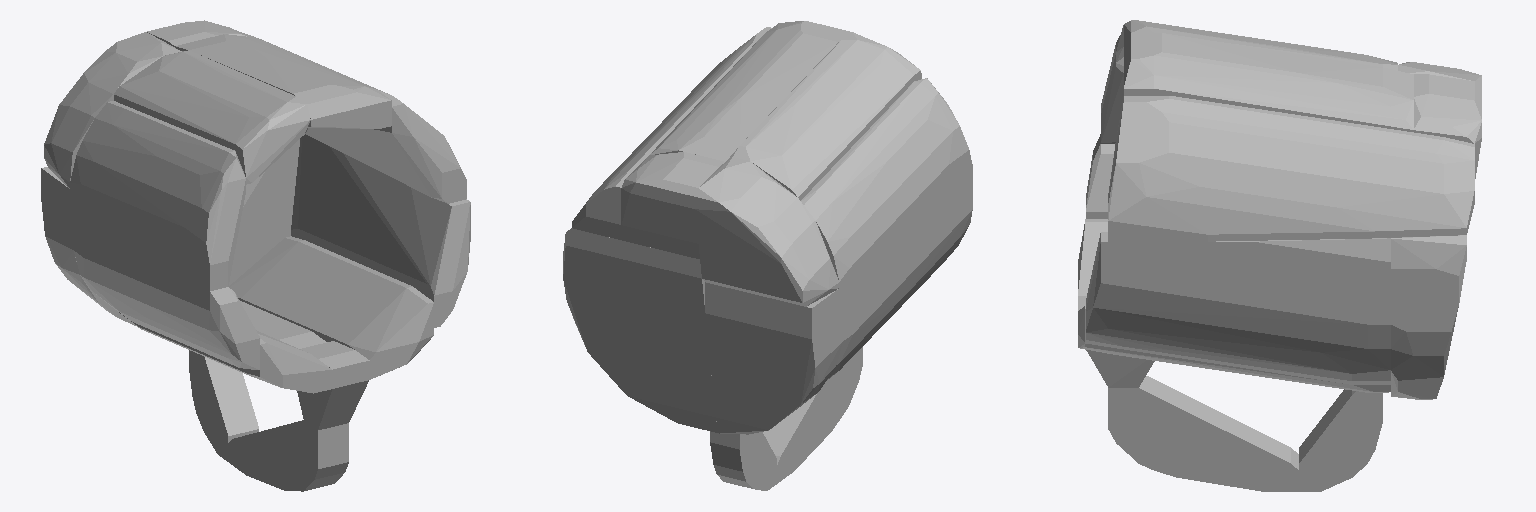
The robot description file, URDF, robot "root":
<robot name="root">
  <link name="link_9d8c711750a73b06ad1d789f3b2120d0_convex_piece_0">
    <inertial>
      <origin rpy="0 0 0" xyz="0 0 0"/>
      <mass value="2.77E-07"/>
      <inertia ixx="1.61E-10" ixy="9.73E-13" ixz="2.11E-12" iyy="1.31E-10" iyz="5.05E-11" izz="3.07E-11"/>
    </inertial>
    <visual>
      <origin rpy="0 0 0" xyz="0 0 0"/>
      <geometry>
        <mesh filename="9d8c711750a73b06ad1d789f3b2120d0_convex_piece_0.obj" scale="1.0000E+00"/>
      </geometry>
      <material name="">
        <color rgba="7.50E-01 7.50E-01 7.50E-01 1"/>
      </material>
    </visual>
    <collision>
      <origin rpy="0 0 0" xyz="0 0 0"/>
      <geometry>
        <mesh filename="9d8c711750a73b06ad1d789f3b2120d0_convex_piece_0.obj" scale="1.0000E+00"/>
      </geometry>
    </collision>
  </link>
  <link name="link_9d8c711750a73b06ad1d789f3b2120d0_convex_piece_1">
    <inertial>
      <origin rpy="0 0 0" xyz="0 0 0"/>
      <mass value="1.36E-07"/>
      <inertia ixx="6.74E-11" ixy="-3.22E-13" ixz="1.02E-12" iyy="6.23E-11" iyz="-2.45E-11" izz="5.60E-12"/>
    </inertial>
    <visual>
      <origin rpy="0 0 0" xyz="0 0 0"/>
      <geometry>
        <mesh filename="9d8c711750a73b06ad1d789f3b2120d0_convex_piece_1.obj" scale="1.0000E+00"/>
      </geometry>
      <material name="">
        <color rgba="7.50E-01 7.50E-01 7.50E-01 1"/>
      </material>
    </visual>
    <collision>
      <origin rpy="0 0 0" xyz="0 0 0"/>
      <geometry>
        <mesh filename="9d8c711750a73b06ad1d789f3b2120d0_convex_piece_1.obj" scale="1.0000E+00"/>
      </geometry>
    </collision>
  </link>
  <joint name="link_9d8c711750a73b06ad1d789f3b2120d0_convex_piece_1_joint" type="fixed">
    <origin rpy="0 0 0" xyz="0 0 0"/>
    <parent link="link_9d8c711750a73b06ad1d789f3b2120d0_convex_piece_0"/>
    <child link="link_9d8c711750a73b06ad1d789f3b2120d0_convex_piece_1"/>
  </joint>
  <link name="link_9d8c711750a73b06ad1d789f3b2120d0_convex_piece_2">
    <inertial>
      <origin rpy="0 0 0" xyz="0 0 0"/>
      <mass value="7.77E-07"/>
      <inertia ixx="2.01E-10" ixy="-1.26E-10" ixz="4.88E-12" iyy="9.77E-11" iyz="-3.28E-11" izz="2.85E-10"/>
    </inertial>
    <visual>
      <origin rpy="0 0 0" xyz="0 0 0"/>
      <geometry>
        <mesh filename="9d8c711750a73b06ad1d789f3b2120d0_convex_piece_2.obj" scale="1.0000E+00"/>
      </geometry>
      <material name="">
        <color rgba="7.50E-01 7.50E-01 7.50E-01 1"/>
      </material>
    </visual>
    <collision>
      <origin rpy="0 0 0" xyz="0 0 0"/>
      <geometry>
        <mesh filename="9d8c711750a73b06ad1d789f3b2120d0_convex_piece_2.obj" scale="1.0000E+00"/>
      </geometry>
    </collision>
  </link>
  <joint name="link_9d8c711750a73b06ad1d789f3b2120d0_convex_piece_2_joint" type="fixed">
    <origin rpy="0 0 0" xyz="0 0 0"/>
    <parent link="link_9d8c711750a73b06ad1d789f3b2120d0_convex_piece_1"/>
    <child link="link_9d8c711750a73b06ad1d789f3b2120d0_convex_piece_2"/>
  </joint>
  <link name="link_9d8c711750a73b06ad1d789f3b2120d0_convex_piece_3">
    <inertial>
      <origin rpy="0 0 0" xyz="0 0 0"/>
      <mass value="5.67E-07"/>
      <inertia ixx="2.81E-10" ixy="-8.99E-11" ixz="-6.83E-11" iyy="1.62E-10" iyz="1.31E-10" izz="2.27E-10"/>
    </inertial>
    <visual>
      <origin rpy="0 0 0" xyz="0 0 0"/>
      <geometry>
        <mesh filename="9d8c711750a73b06ad1d789f3b2120d0_convex_piece_3.obj" scale="1.0000E+00"/>
      </geometry>
      <material name="">
        <color rgba="7.50E-01 7.50E-01 7.50E-01 1"/>
      </material>
    </visual>
    <collision>
      <origin rpy="0 0 0" xyz="0 0 0"/>
      <geometry>
        <mesh filename="9d8c711750a73b06ad1d789f3b2120d0_convex_piece_3.obj" scale="1.0000E+00"/>
      </geometry>
    </collision>
  </link>
  <joint name="link_9d8c711750a73b06ad1d789f3b2120d0_convex_piece_3_joint" type="fixed">
    <origin rpy="0 0 0" xyz="0 0 0"/>
    <parent link="link_9d8c711750a73b06ad1d789f3b2120d0_convex_piece_2"/>
    <child link="link_9d8c711750a73b06ad1d789f3b2120d0_convex_piece_3"/>
  </joint>
  <link name="link_9d8c711750a73b06ad1d789f3b2120d0_convex_piece_4">
    <inertial>
      <origin rpy="0 0 0" xyz="0 0 0"/>
      <mass value="1.32E-06"/>
      <inertia ixx="3.66E-10" ixy="1.65E-10" ixz="1.46E-11" iyy="1.47E-10" iyz="-1.86E-11" izz="4.56E-10"/>
    </inertial>
    <visual>
      <origin rpy="0 0 0" xyz="0 0 0"/>
      <geometry>
        <mesh filename="9d8c711750a73b06ad1d789f3b2120d0_convex_piece_4.obj" scale="1.0000E+00"/>
      </geometry>
      <material name="">
        <color rgba="7.50E-01 7.50E-01 7.50E-01 1"/>
      </material>
    </visual>
    <collision>
      <origin rpy="0 0 0" xyz="0 0 0"/>
      <geometry>
        <mesh filename="9d8c711750a73b06ad1d789f3b2120d0_convex_piece_4.obj" scale="1.0000E+00"/>
      </geometry>
    </collision>
  </link>
  <joint name="link_9d8c711750a73b06ad1d789f3b2120d0_convex_piece_4_joint" type="fixed">
    <origin rpy="0 0 0" xyz="0 0 0"/>
    <parent link="link_9d8c711750a73b06ad1d789f3b2120d0_convex_piece_3"/>
    <child link="link_9d8c711750a73b06ad1d789f3b2120d0_convex_piece_4"/>
  </joint>
  <link name="link_9d8c711750a73b06ad1d789f3b2120d0_convex_piece_5">
    <inertial>
      <origin rpy="0 0 0" xyz="0 0 0"/>
      <mass value="1.08E-06"/>
      <inertia ixx="3.88E-10" ixy="-4.65E-12" ixz="2.22E-10" iyy="4.55E-10" iyz="-3.48E-11" izz="2.98E-10"/>
    </inertial>
    <visual>
      <origin rpy="0 0 0" xyz="0 0 0"/>
      <geometry>
        <mesh filename="9d8c711750a73b06ad1d789f3b2120d0_convex_piece_5.obj" scale="1.0000E+00"/>
      </geometry>
      <material name="">
        <color rgba="7.50E-01 7.50E-01 7.50E-01 1"/>
      </material>
    </visual>
    <collision>
      <origin rpy="0 0 0" xyz="0 0 0"/>
      <geometry>
        <mesh filename="9d8c711750a73b06ad1d789f3b2120d0_convex_piece_5.obj" scale="1.0000E+00"/>
      </geometry>
    </collision>
  </link>
  <joint name="link_9d8c711750a73b06ad1d789f3b2120d0_convex_piece_5_joint" type="fixed">
    <origin rpy="0 0 0" xyz="0 0 0"/>
    <parent link="link_9d8c711750a73b06ad1d789f3b2120d0_convex_piece_4"/>
    <child link="link_9d8c711750a73b06ad1d789f3b2120d0_convex_piece_5"/>
  </joint>
  <link name="link_9d8c711750a73b06ad1d789f3b2120d0_convex_piece_6">
    <inertial>
      <origin rpy="0 0 0" xyz="0 0 0"/>
      <mass value="7.98E-07"/>
      <inertia ixx="5.79E-11" ixy="3.80E-11" ixz="-1.32E-11" iyy="1.77E-10" iyz="-2.74E-11" izz="2.50E-10"/>
    </inertial>
    <visual>
      <origin rpy="0 0 0" xyz="0 0 0"/>
      <geometry>
        <mesh filename="9d8c711750a73b06ad1d789f3b2120d0_convex_piece_6.obj" scale="1.0000E+00"/>
      </geometry>
      <material name="">
        <color rgba="7.50E-01 7.50E-01 7.50E-01 1"/>
      </material>
    </visual>
    <collision>
      <origin rpy="0 0 0" xyz="0 0 0"/>
      <geometry>
        <mesh filename="9d8c711750a73b06ad1d789f3b2120d0_convex_piece_6.obj" scale="1.0000E+00"/>
      </geometry>
    </collision>
  </link>
  <joint name="link_9d8c711750a73b06ad1d789f3b2120d0_convex_piece_6_joint" type="fixed">
    <origin rpy="0 0 0" xyz="0 0 0"/>
    <parent link="link_9d8c711750a73b06ad1d789f3b2120d0_convex_piece_5"/>
    <child link="link_9d8c711750a73b06ad1d789f3b2120d0_convex_piece_6"/>
  </joint>
  <link name="link_9d8c711750a73b06ad1d789f3b2120d0_convex_piece_7">
    <inertial>
      <origin rpy="0 0 0" xyz="0 0 0"/>
      <mass value="7.61E-07"/>
      <inertia ixx="1.05E-10" ixy="2.81E-11" ixz="3.88E-11" iyy="7.44E-11" iyz="-3.76E-12" izz="1.27E-10"/>
    </inertial>
    <visual>
      <origin rpy="0 0 0" xyz="0 0 0"/>
      <geometry>
        <mesh filename="9d8c711750a73b06ad1d789f3b2120d0_convex_piece_7.obj" scale="1.0000E+00"/>
      </geometry>
      <material name="">
        <color rgba="7.50E-01 7.50E-01 7.50E-01 1"/>
      </material>
    </visual>
    <collision>
      <origin rpy="0 0 0" xyz="0 0 0"/>
      <geometry>
        <mesh filename="9d8c711750a73b06ad1d789f3b2120d0_convex_piece_7.obj" scale="1.0000E+00"/>
      </geometry>
    </collision>
  </link>
  <joint name="link_9d8c711750a73b06ad1d789f3b2120d0_convex_piece_7_joint" type="fixed">
    <origin rpy="0 0 0" xyz="0 0 0"/>
    <parent link="link_9d8c711750a73b06ad1d789f3b2120d0_convex_piece_6"/>
    <child link="link_9d8c711750a73b06ad1d789f3b2120d0_convex_piece_7"/>
  </joint>
  <link name="link_9d8c711750a73b06ad1d789f3b2120d0_convex_piece_8">
    <inertial>
      <origin rpy="0 0 0" xyz="0 0 0"/>
      <mass value="7.09E-07"/>
      <inertia ixx="1.88E-10" ixy="4.47E-11" ixz="-1.47E-10" iyy="2.93E-10" iyz="-6.20E-11" izz="2.21E-10"/>
    </inertial>
    <visual>
      <origin rpy="0 0 0" xyz="0 0 0"/>
      <geometry>
        <mesh filename="9d8c711750a73b06ad1d789f3b2120d0_convex_piece_8.obj" scale="1.0000E+00"/>
      </geometry>
      <material name="">
        <color rgba="7.50E-01 7.50E-01 7.50E-01 1"/>
      </material>
    </visual>
    <collision>
      <origin rpy="0 0 0" xyz="0 0 0"/>
      <geometry>
        <mesh filename="9d8c711750a73b06ad1d789f3b2120d0_convex_piece_8.obj" scale="1.0000E+00"/>
      </geometry>
    </collision>
  </link>
  <joint name="link_9d8c711750a73b06ad1d789f3b2120d0_convex_piece_8_joint" type="fixed">
    <origin rpy="0 0 0" xyz="0 0 0"/>
    <parent link="link_9d8c711750a73b06ad1d789f3b2120d0_convex_piece_7"/>
    <child link="link_9d8c711750a73b06ad1d789f3b2120d0_convex_piece_8"/>
  </joint>
  <link name="link_9d8c711750a73b06ad1d789f3b2120d0_convex_piece_9">
    <inertial>
      <origin rpy="0 0 0" xyz="0 0 0"/>
      <mass value="6.76E-07"/>
      <inertia ixx="3.45E-10" ixy="1.17E-11" ixz="-1.08E-10" iyy="3.46E-10" iyz="-5.69E-11" izz="8.61E-11"/>
    </inertial>
    <visual>
      <origin rpy="0 0 0" xyz="0 0 0"/>
      <geometry>
        <mesh filename="9d8c711750a73b06ad1d789f3b2120d0_convex_piece_9.obj" scale="1.0000E+00"/>
      </geometry>
      <material name="">
        <color rgba="7.50E-01 7.50E-01 7.50E-01 1"/>
      </material>
    </visual>
    <collision>
      <origin rpy="0 0 0" xyz="0 0 0"/>
      <geometry>
        <mesh filename="9d8c711750a73b06ad1d789f3b2120d0_convex_piece_9.obj" scale="1.0000E+00"/>
      </geometry>
    </collision>
  </link>
  <joint name="link_9d8c711750a73b06ad1d789f3b2120d0_convex_piece_9_joint" type="fixed">
    <origin rpy="0 0 0" xyz="0 0 0"/>
    <parent link="link_9d8c711750a73b06ad1d789f3b2120d0_convex_piece_8"/>
    <child link="link_9d8c711750a73b06ad1d789f3b2120d0_convex_piece_9"/>
  </joint>
  <link name="link_9d8c711750a73b06ad1d789f3b2120d0_convex_piece_10">
    <inertial>
      <origin rpy="0 0 0" xyz="0 0 0"/>
      <mass value="1.10E-06"/>
      <inertia ixx="9.33E-11" ixy="-5.00E-11" ixz="5.31E-11" iyy="2.64E-10" iyz="-4.20E-11" izz="3.46E-10"/>
    </inertial>
    <visual>
      <origin rpy="0 0 0" xyz="0 0 0"/>
      <geometry>
        <mesh filename="9d8c711750a73b06ad1d789f3b2120d0_convex_piece_10.obj" scale="1.0000E+00"/>
      </geometry>
      <material name="">
        <color rgba="7.50E-01 7.50E-01 7.50E-01 1"/>
      </material>
    </visual>
    <collision>
      <origin rpy="0 0 0" xyz="0 0 0"/>
      <geometry>
        <mesh filename="9d8c711750a73b06ad1d789f3b2120d0_convex_piece_10.obj" scale="1.0000E+00"/>
      </geometry>
    </collision>
  </link>
  <joint name="link_9d8c711750a73b06ad1d789f3b2120d0_convex_piece_10_joint" type="fixed">
    <origin rpy="0 0 0" xyz="0 0 0"/>
    <parent link="link_9d8c711750a73b06ad1d789f3b2120d0_convex_piece_9"/>
    <child link="link_9d8c711750a73b06ad1d789f3b2120d0_convex_piece_10"/>
  </joint>
  <link name="link_9d8c711750a73b06ad1d789f3b2120d0_convex_piece_11">
    <inertial>
      <origin rpy="0 0 0" xyz="0 0 0"/>
      <mass value="7.24E-07"/>
      <inertia ixx="4.13E-10" ixy="-2.87E-12" ixz="5.45E-11" iyy="3.81E-10" iyz="-4.79E-11" izz="6.33E-11"/>
    </inertial>
    <visual>
      <origin rpy="0 0 0" xyz="0 0 0"/>
      <geometry>
        <mesh filename="9d8c711750a73b06ad1d789f3b2120d0_convex_piece_11.obj" scale="1.0000E+00"/>
      </geometry>
      <material name="">
        <color rgba="7.50E-01 7.50E-01 7.50E-01 1"/>
      </material>
    </visual>
    <collision>
      <origin rpy="0 0 0" xyz="0 0 0"/>
      <geometry>
        <mesh filename="9d8c711750a73b06ad1d789f3b2120d0_convex_piece_11.obj" scale="1.0000E+00"/>
      </geometry>
    </collision>
  </link>
  <joint name="link_9d8c711750a73b06ad1d789f3b2120d0_convex_piece_11_joint" type="fixed">
    <origin rpy="0 0 0" xyz="0 0 0"/>
    <parent link="link_9d8c711750a73b06ad1d789f3b2120d0_convex_piece_10"/>
    <child link="link_9d8c711750a73b06ad1d789f3b2120d0_convex_piece_11"/>
  </joint>
  <link name="link_9d8c711750a73b06ad1d789f3b2120d0_convex_piece_12">
    <inertial>
      <origin rpy="0 0 0" xyz="0 0 0"/>
      <mass value="3.32E-07"/>
      <inertia ixx="2.06E-10" ixy="1.90E-11" ixz="1.67E-11" iyy="9.72E-11" iyz="1.00E-10" izz="1.22E-10"/>
    </inertial>
    <visual>
      <origin rpy="0 0 0" xyz="0 0 0"/>
      <geometry>
        <mesh filename="9d8c711750a73b06ad1d789f3b2120d0_convex_piece_12.obj" scale="1.0000E+00"/>
      </geometry>
      <material name="">
        <color rgba="7.50E-01 7.50E-01 7.50E-01 1"/>
      </material>
    </visual>
    <collision>
      <origin rpy="0 0 0" xyz="0 0 0"/>
      <geometry>
        <mesh filename="9d8c711750a73b06ad1d789f3b2120d0_convex_piece_12.obj" scale="1.0000E+00"/>
      </geometry>
    </collision>
  </link>
  <joint name="link_9d8c711750a73b06ad1d789f3b2120d0_convex_piece_12_joint" type="fixed">
    <origin rpy="0 0 0" xyz="0 0 0"/>
    <parent link="link_9d8c711750a73b06ad1d789f3b2120d0_convex_piece_11"/>
    <child link="link_9d8c711750a73b06ad1d789f3b2120d0_convex_piece_12"/>
  </joint>
  <link name="link_9d8c711750a73b06ad1d789f3b2120d0_convex_piece_13">
    <inertial>
      <origin rpy="0 0 0" xyz="0 0 0"/>
      <mass value="7.65E-07"/>
      <inertia ixx="1.04E-10" ixy="-2.86E-11" ixz="-3.91E-11" iyy="7.59E-11" iyz="-4.12E-12" izz="1.30E-10"/>
    </inertial>
    <visual>
      <origin rpy="0 0 0" xyz="0 0 0"/>
      <geometry>
        <mesh filename="9d8c711750a73b06ad1d789f3b2120d0_convex_piece_13.obj" scale="1.0000E+00"/>
      </geometry>
      <material name="">
        <color rgba="7.50E-01 7.50E-01 7.50E-01 1"/>
      </material>
    </visual>
    <collision>
      <origin rpy="0 0 0" xyz="0 0 0"/>
      <geometry>
        <mesh filename="9d8c711750a73b06ad1d789f3b2120d0_convex_piece_13.obj" scale="1.0000E+00"/>
      </geometry>
    </collision>
  </link>
  <joint name="link_9d8c711750a73b06ad1d789f3b2120d0_convex_piece_13_joint" type="fixed">
    <origin rpy="0 0 0" xyz="0 0 0"/>
    <parent link="link_9d8c711750a73b06ad1d789f3b2120d0_convex_piece_12"/>
    <child link="link_9d8c711750a73b06ad1d789f3b2120d0_convex_piece_13"/>
  </joint>
  <link name="link_9d8c711750a73b06ad1d789f3b2120d0_convex_piece_14">
    <inertial>
      <origin rpy="0 0 0" xyz="0 0 0"/>
      <mass value="1.44E-07"/>
      <inertia ixx="5.43E-11" ixy="1.91E-14" ixz="6.28E-14" iyy="1.02E-11" iyz="2.08E-11" izz="4.48E-11"/>
    </inertial>
    <visual>
      <origin rpy="0 0 0" xyz="0 0 0"/>
      <geometry>
        <mesh filename="9d8c711750a73b06ad1d789f3b2120d0_convex_piece_14.obj" scale="1.0000E+00"/>
      </geometry>
      <material name="">
        <color rgba="7.50E-01 7.50E-01 7.50E-01 1"/>
      </material>
    </visual>
    <collision>
      <origin rpy="0 0 0" xyz="0 0 0"/>
      <geometry>
        <mesh filename="9d8c711750a73b06ad1d789f3b2120d0_convex_piece_14.obj" scale="1.0000E+00"/>
      </geometry>
    </collision>
  </link>
  <joint name="link_9d8c711750a73b06ad1d789f3b2120d0_convex_piece_14_joint" type="fixed">
    <origin rpy="0 0 0" xyz="0 0 0"/>
    <parent link="link_9d8c711750a73b06ad1d789f3b2120d0_convex_piece_13"/>
    <child link="link_9d8c711750a73b06ad1d789f3b2120d0_convex_piece_14"/>
  </joint>
  <link name="link_9d8c711750a73b06ad1d789f3b2120d0_convex_piece_15">
    <inertial>
      <origin rpy="0 0 0" xyz="0 0 0"/>
      <mass value="2.32E-07"/>
      <inertia ixx="2.84E-11" ixy="1.95E-14" ixz="-1.44E-13" iyy="2.18E-11" iyz="-8.50E-12" izz="7.66E-12"/>
    </inertial>
    <visual>
      <origin rpy="0 0 0" xyz="0 0 0"/>
      <geometry>
        <mesh filename="9d8c711750a73b06ad1d789f3b2120d0_convex_piece_15.obj" scale="1.0000E+00"/>
      </geometry>
      <material name="">
        <color rgba="7.50E-01 7.50E-01 7.50E-01 1"/>
      </material>
    </visual>
    <collision>
      <origin rpy="0 0 0" xyz="0 0 0"/>
      <geometry>
        <mesh filename="9d8c711750a73b06ad1d789f3b2120d0_convex_piece_15.obj" scale="1.0000E+00"/>
      </geometry>
    </collision>
  </link>
  <joint name="link_9d8c711750a73b06ad1d789f3b2120d0_convex_piece_15_joint" type="fixed">
    <origin rpy="0 0 0" xyz="0 0 0"/>
    <parent link="link_9d8c711750a73b06ad1d789f3b2120d0_convex_piece_14"/>
    <child link="link_9d8c711750a73b06ad1d789f3b2120d0_convex_piece_15"/>
  </joint>
</robot>

--- Render facts (derived) ---
The picture shows the robot from 3 angles, left to right: view 1: azimuth 30°, elevation 25°; view 2: azimuth 150°, elevation 25°; view 3: azimuth 270°, elevation 25°; orthographic projection.
Model root with 16 links and 15 joints (15 fixed), rooted at link_9d8c711750a73b06ad1d789f3b2120d0_convex_piece_0, posed every joint at zero.
Links seen in each view (by area): view 1: link_9d8c711750a73b06ad1d789f3b2120d0_convex_piece_8, link_9d8c711750a73b06ad1d789f3b2120d0_convex_piece_10, link_9d8c711750a73b06ad1d789f3b2120d0_convex_piece_13, link_9d8c711750a73b06ad1d789f3b2120d0_convex_piece_6, link_9d8c711750a73b06ad1d789f3b2120d0_convex_piece_9, link_9d8c711750a73b06ad1d789f3b2120d0_convex_piece_11, link_9d8c711750a73b06ad1d789f3b2120d0_convex_piece_5, link_9d8c711750a73b06ad1d789f3b2120d0_convex_piece_0, link_9d8c711750a73b06ad1d789f3b2120d0_convex_piece_3, link_9d8c711750a73b06ad1d789f3b2120d0_convex_piece_4, link_9d8c711750a73b06ad1d789f3b2120d0_convex_piece_1, link_9d8c711750a73b06ad1d789f3b2120d0_convex_piece_14 (+4 smaller); view 2: link_9d8c711750a73b06ad1d789f3b2120d0_convex_piece_4, link_9d8c711750a73b06ad1d789f3b2120d0_convex_piece_8, link_9d8c711750a73b06ad1d789f3b2120d0_convex_piece_2, link_9d8c711750a73b06ad1d789f3b2120d0_convex_piece_3, link_9d8c711750a73b06ad1d789f3b2120d0_convex_piece_9, link_9d8c711750a73b06ad1d789f3b2120d0_convex_piece_11, link_9d8c711750a73b06ad1d789f3b2120d0_convex_piece_6, link_9d8c711750a73b06ad1d789f3b2120d0_convex_piece_12, link_9d8c711750a73b06ad1d789f3b2120d0_convex_piece_0, link_9d8c711750a73b06ad1d789f3b2120d0_convex_piece_5, link_9d8c711750a73b06ad1d789f3b2120d0_convex_piece_1; view 3: link_9d8c711750a73b06ad1d789f3b2120d0_convex_piece_5, link_9d8c711750a73b06ad1d789f3b2120d0_convex_piece_10, link_9d8c711750a73b06ad1d789f3b2120d0_convex_piece_11, link_9d8c711750a73b06ad1d789f3b2120d0_convex_piece_0, link_9d8c711750a73b06ad1d789f3b2120d0_convex_piece_4, link_9d8c711750a73b06ad1d789f3b2120d0_convex_piece_1, link_9d8c711750a73b06ad1d789f3b2120d0_convex_piece_12, link_9d8c711750a73b06ad1d789f3b2120d0_convex_piece_13, link_9d8c711750a73b06ad1d789f3b2120d0_convex_piece_9, link_9d8c711750a73b06ad1d789f3b2120d0_convex_piece_14, link_9d8c711750a73b06ad1d789f3b2120d0_convex_piece_6, link_9d8c711750a73b06ad1d789f3b2120d0_convex_piece_8 (+2 smaller).
Boxes of the visible links, box(x1,y1,x2,y2) form: link_9d8c711750a73b06ad1d789f3b2120d0_convex_piece_8: box(70, 101, 245, 290); link_9d8c711750a73b06ad1d789f3b2120d0_convex_piece_10: box(291, 134, 470, 327); link_9d8c711750a73b06ad1d789f3b2120d0_convex_piece_13: box(229, 236, 433, 379); link_9d8c711750a73b06ad1d789f3b2120d0_convex_piece_6: box(74, 192, 259, 369); link_9d8c711750a73b06ad1d789f3b2120d0_convex_piece_9: box(114, 50, 310, 184); link_9d8c711750a73b06ad1d789f3b2120d0_convex_piece_11: box(175, 34, 391, 128); link_9d8c711750a73b06ad1d789f3b2120d0_convex_piece_5: box(241, 32, 466, 203); link_9d8c711750a73b06ad1d789f3b2120d0_convex_piece_0: box(228, 420, 348, 491); link_9d8c711750a73b06ad1d789f3b2120d0_convex_piece_3: box(44, 32, 181, 188); link_9d8c711750a73b06ad1d789f3b2120d0_convex_piece_4: box(229, 139, 299, 285); link_9d8c711750a73b06ad1d789f3b2120d0_convex_piece_1: box(189, 350, 258, 461); link_9d8c711750a73b06ad1d789f3b2120d0_convex_piece_14: box(297, 341, 369, 429); link_9d8c711750a73b06ad1d789f3b2120d0_convex_piece_4: box(563, 228, 718, 432); link_9d8c711750a73b06ad1d789f3b2120d0_convex_piece_8: box(801, 78, 972, 287); link_9d8c711750a73b06ad1d789f3b2120d0_convex_piece_2: box(705, 282, 842, 434); link_9d8c711750a73b06ad1d789f3b2120d0_convex_piece_3: box(695, 157, 838, 306); link_9d8c711750a73b06ad1d789f3b2120d0_convex_piece_9: box(733, 32, 921, 200); link_9d8c711750a73b06ad1d789f3b2120d0_convex_piece_11: box(650, 21, 851, 162); link_9d8c711750a73b06ad1d789f3b2120d0_convex_piece_6: box(827, 191, 972, 379); link_9d8c711750a73b06ad1d789f3b2120d0_convex_piece_12: box(621, 152, 725, 258); link_9d8c711750a73b06ad1d789f3b2120d0_convex_piece_0: box(763, 347, 862, 483); link_9d8c711750a73b06ad1d789f3b2120d0_convex_piece_5: box(572, 27, 771, 240); link_9d8c711750a73b06ad1d789f3b2120d0_convex_piece_1: box(710, 431, 776, 490); link_9d8c711750a73b06ad1d789f3b2120d0_convex_piece_5: box(1108, 96, 1474, 241); link_9d8c711750a73b06ad1d789f3b2120d0_convex_piece_10: box(1086, 232, 1390, 380); link_9d8c711750a73b06ad1d789f3b2120d0_convex_piece_11: box(1124, 33, 1413, 131); link_9d8c711750a73b06ad1d789f3b2120d0_convex_piece_0: box(1108, 376, 1298, 491); link_9d8c711750a73b06ad1d789f3b2120d0_convex_piece_4: box(1391, 235, 1466, 399); link_9d8c711750a73b06ad1d789f3b2120d0_convex_piece_1: box(1299, 389, 1382, 491); link_9d8c711750a73b06ad1d789f3b2120d0_convex_piece_12: box(1414, 74, 1481, 178); link_9d8c711750a73b06ad1d789f3b2120d0_convex_piece_13: box(1078, 306, 1390, 392); link_9d8c711750a73b06ad1d789f3b2120d0_convex_piece_9: box(1116, 20, 1397, 70); link_9d8c711750a73b06ad1d789f3b2120d0_convex_piece_14: box(1078, 296, 1154, 387); link_9d8c711750a73b06ad1d789f3b2120d0_convex_piece_6: box(1086, 134, 1114, 218); link_9d8c711750a73b06ad1d789f3b2120d0_convex_piece_8: box(1101, 35, 1123, 143).
Size in the robot's own frame: 0.0365 by 0.0461 by 0.0556 metres.
16 mesh visuals loaded from 16 distinct referenced files (16 OBJ).